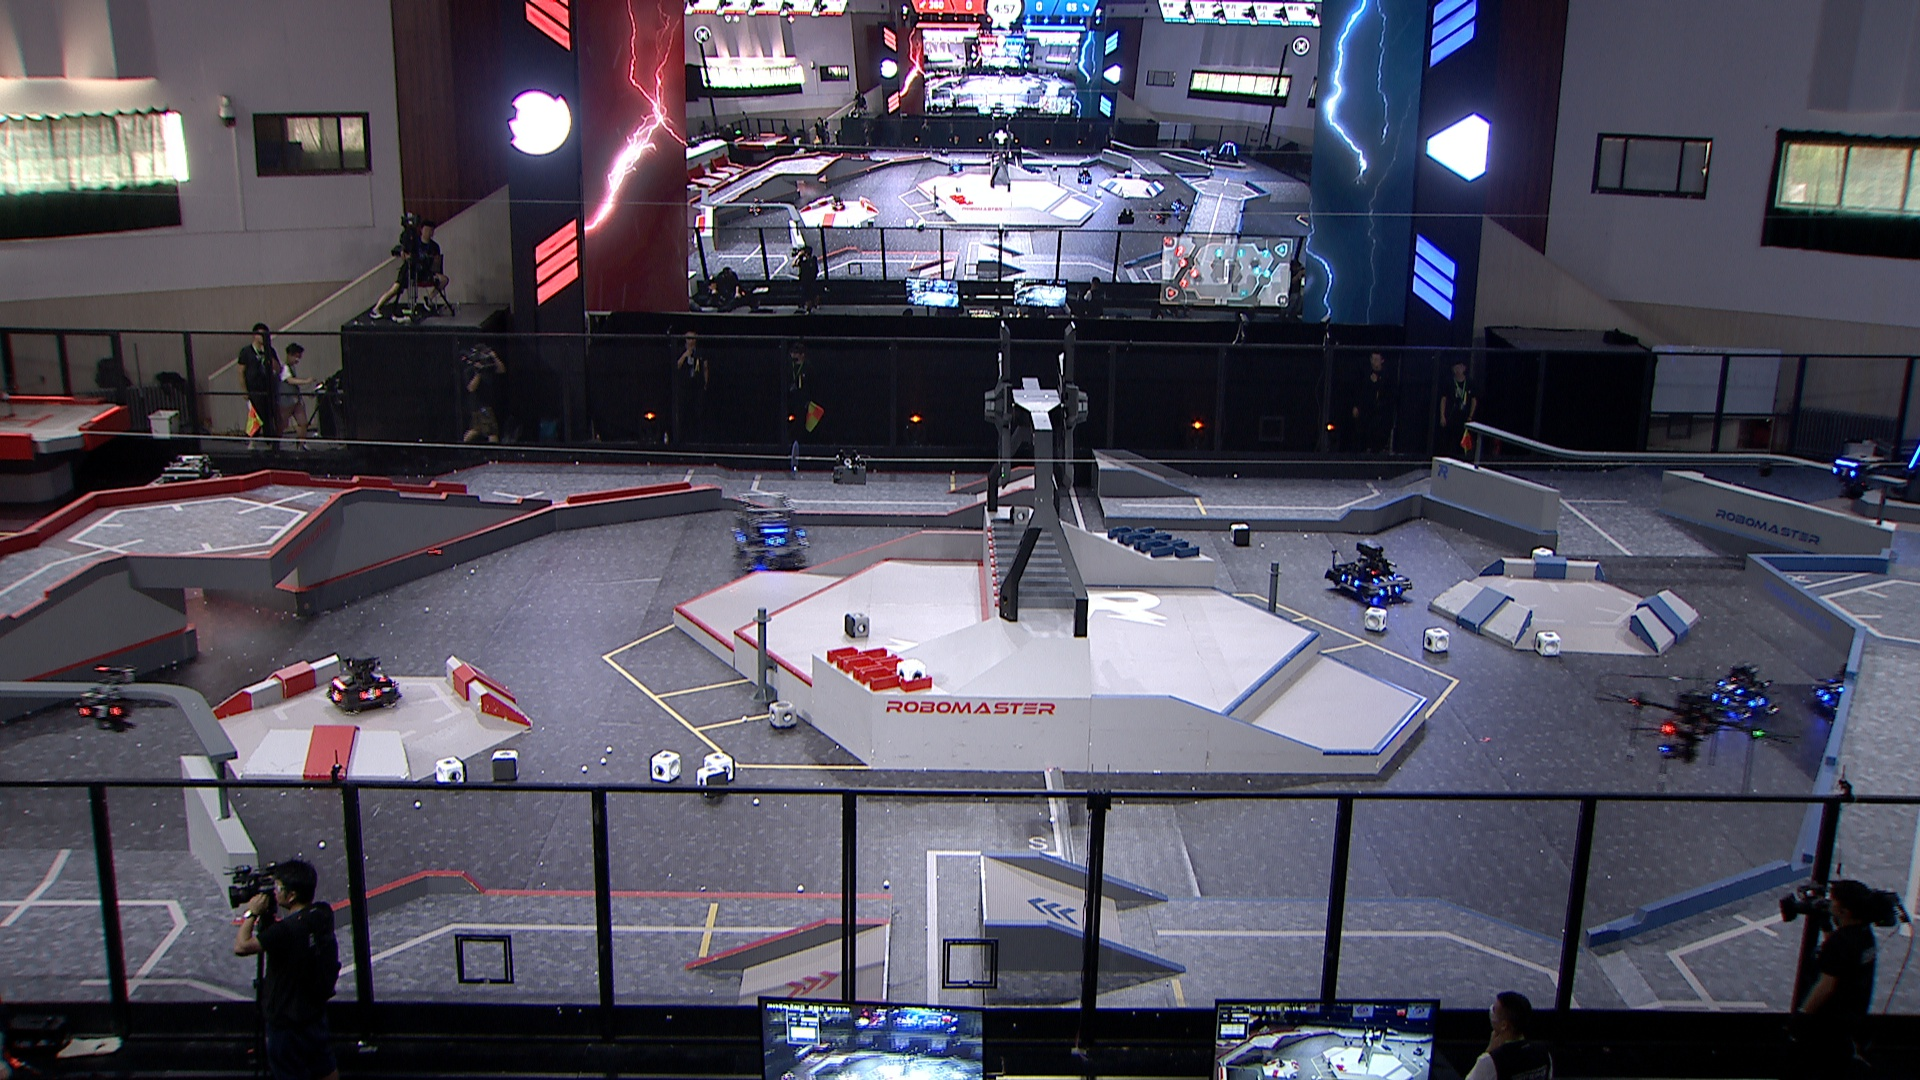armor: (78, 704, 124, 721), (764, 533, 789, 550), (1716, 680, 1745, 695), (1828, 465, 1858, 479), (357, 688, 382, 703), (1338, 572, 1361, 588), (1747, 694, 1768, 709), (368, 669, 390, 683), (1908, 443, 1920, 469), (1377, 584, 1400, 597), (1826, 679, 1847, 694), (327, 688, 344, 704), (1815, 688, 1833, 703), (1371, 574, 1394, 585)
base: (1884, 425, 1920, 508)
car: (144, 455, 231, 529), (731, 491, 808, 572), (1321, 541, 1414, 607), (324, 655, 404, 716), (1705, 662, 1782, 723), (1808, 669, 1875, 719)
ignore: (1215, 142, 1240, 164), (1168, 196, 1189, 218), (945, 157, 965, 177), (746, 196, 764, 219), (1076, 166, 1095, 186), (829, 194, 847, 211)
watcher: (73, 665, 136, 735), (1826, 455, 1874, 500)
